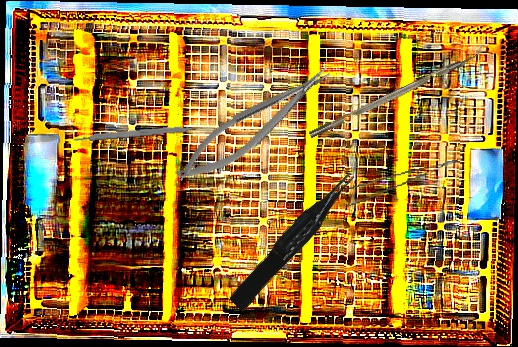Chopper: (304, 41, 488, 139)
Needle Holder: (167, 59, 342, 192)
Scalpel Handle: (72, 123, 197, 143)
Tissue Forceps: (223, 169, 366, 312), (340, 159, 463, 207)
